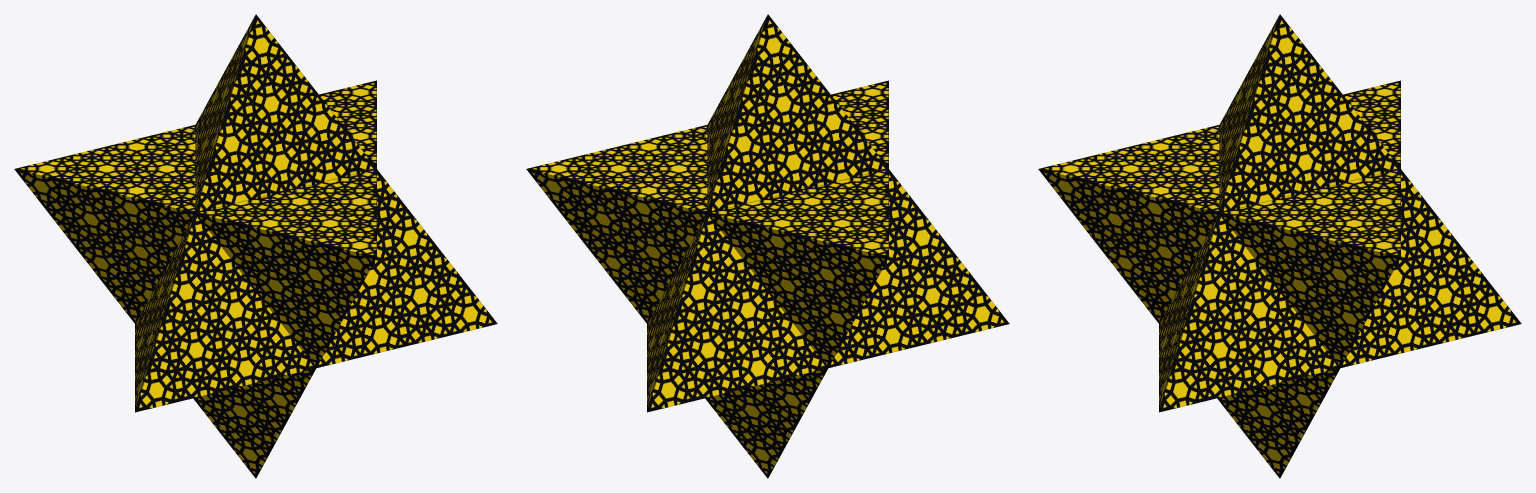
File: star-tetrahedron.gltf
The picture shows the model from 3 angles, left to right: view 1: azimuth 30°, elevation 25°; view 2: azimuth 150°, elevation 25°; view 3: azimuth 270°, elevation 25°; orthographic projection.
Visible parts, largest first — view 1: Mesh; view 2: Mesh; view 3: Mesh.
Boxes of the visible parts, x1,y1,x2,y2 form: Mesh: [14, 14, 497, 478]; Mesh: [526, 14, 1009, 478]; Mesh: [1038, 14, 1521, 478].
Size of the model in its own units: 4 by 4.9 by 4.62.
Materials: 1 (1 with a texture image).
